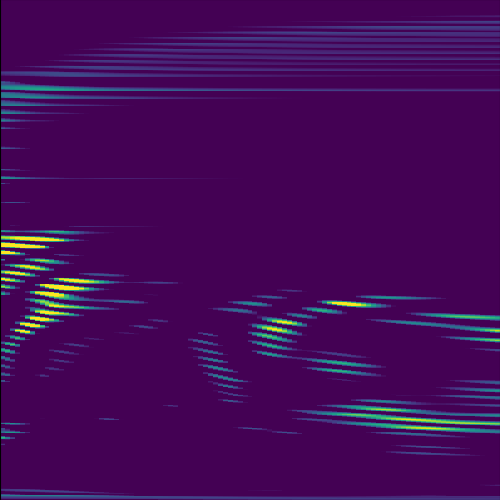semblance: (1, 226, 85, 261), (26, 272, 111, 301), (1, 259, 69, 288), (393, 413, 457, 439)
